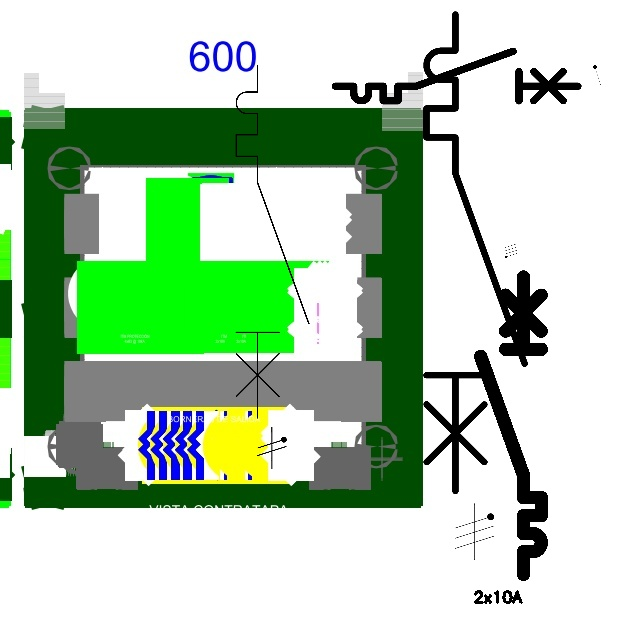interruptor_termomagnetico: (414, 2, 536, 503), (227, 56, 318, 427), (473, 269, 549, 581), (329, 45, 584, 107)
